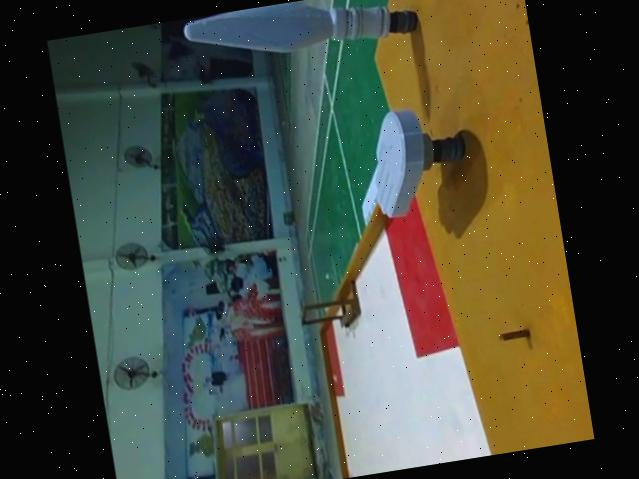Hand: (358, 98, 470, 223)
Sph: (179, 0, 430, 68)
